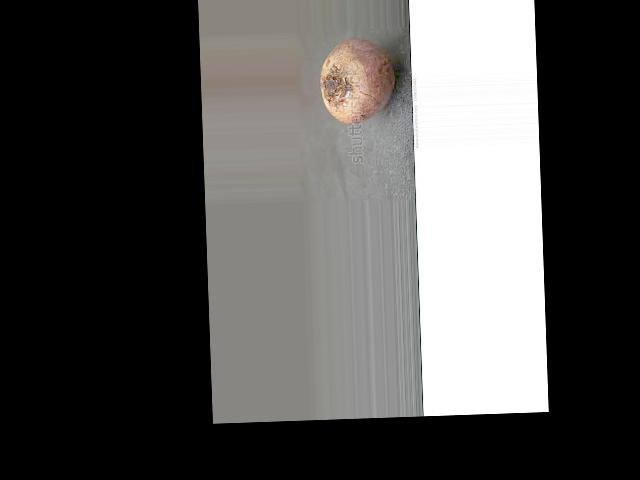beet: (319, 35, 395, 123)
